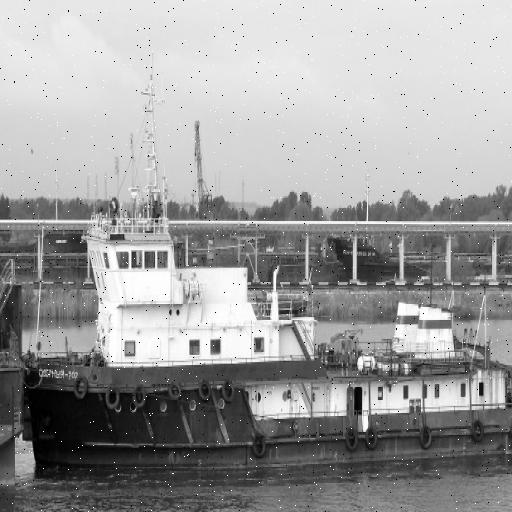tugboat: (3, 174, 512, 501)
